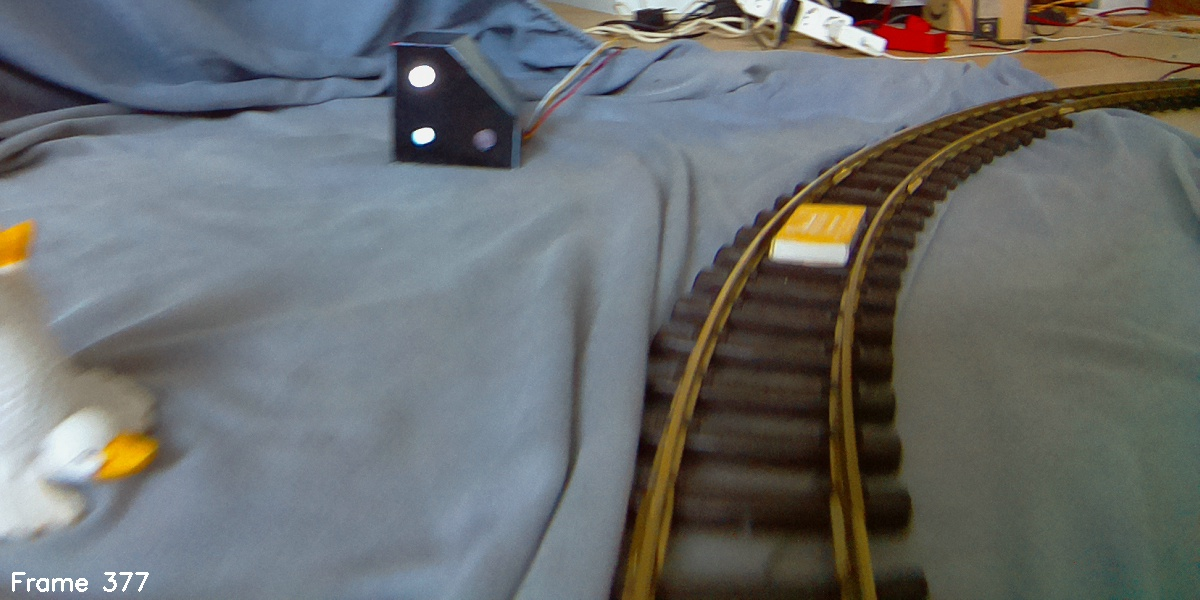Ente: (1, 217, 158, 550)
Fahrt: (388, 30, 518, 167)
